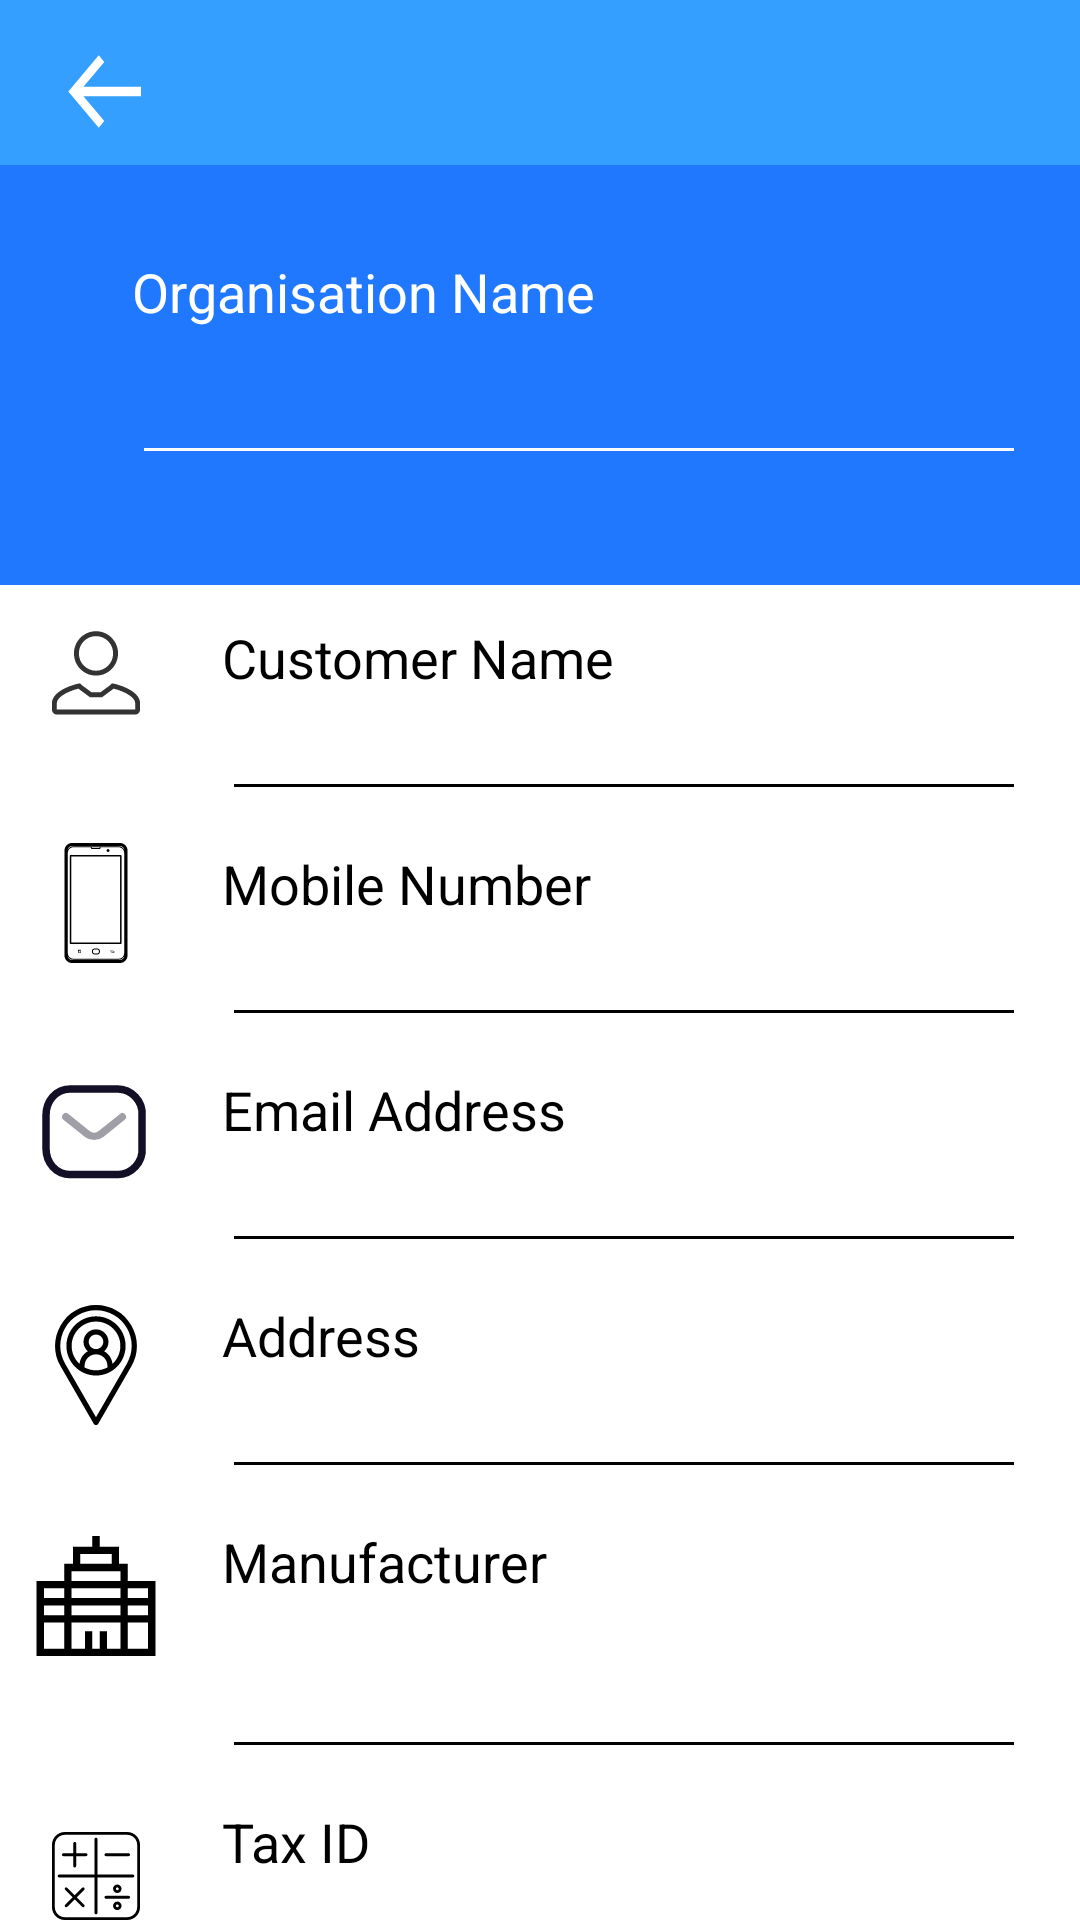

Where to tap for icons on this 1080x1920 app screen, as point (x, y):
calculator: point (96, 1876)
location: point (96, 1365)
message: point (94, 1132)
office: point (96, 1596)
person: point (96, 673)
phone: point (96, 903)
